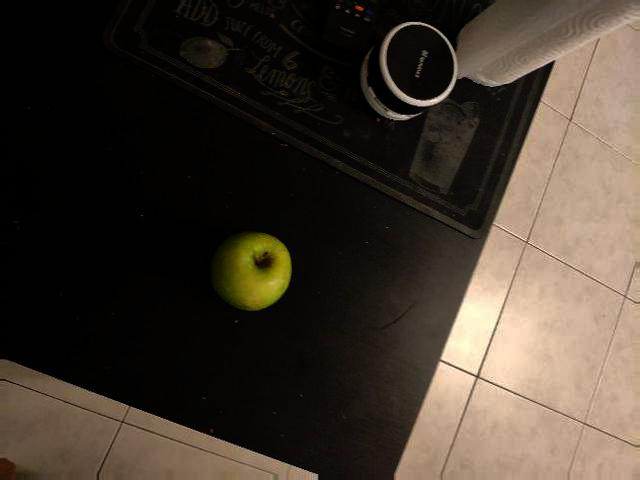apple: (376, 328, 486, 448)
